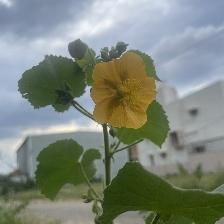indian mallow: (92, 50, 157, 132)
